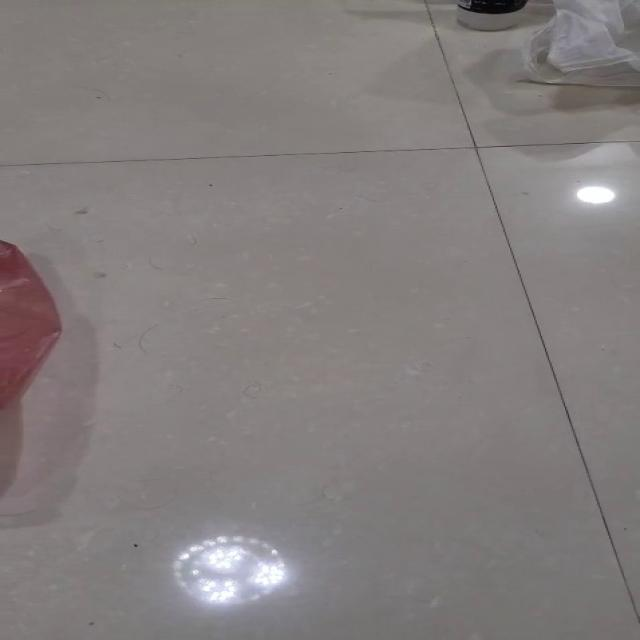plastic: (518, 0, 638, 87)
